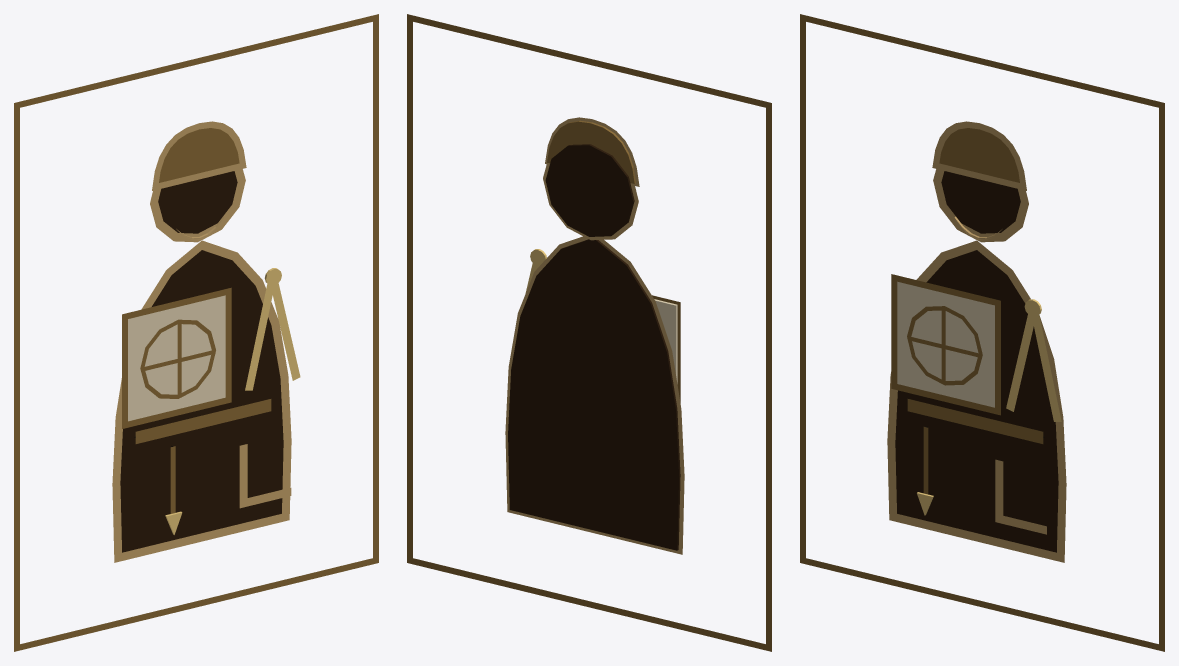
File: npc-zodchiy.glb
3 renders of one model, left to right at view 1: azimuth 30°, elevation 25°; view 2: azimuth 150°, elevation 25°; view 3: azimuth 330°, elevation 25°, orthographic.
Parts seen in each view (by area): view 1: npc-zodchiy; view 2: npc-zodchiy; view 3: npc-zodchiy.
Part boxes in pixels (<box>): npc-zodchiy: <box>14,14,378,651</box>; npc-zodchiy: <box>407,14,771,651</box>; npc-zodchiy: <box>800,14,1164,651</box>.
Bounding box in the file's own units: 1.14 × 1.64 × 0.0975.
